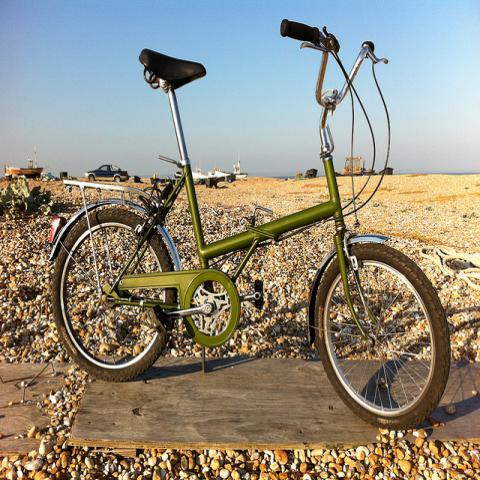car: (84, 164, 130, 184)
